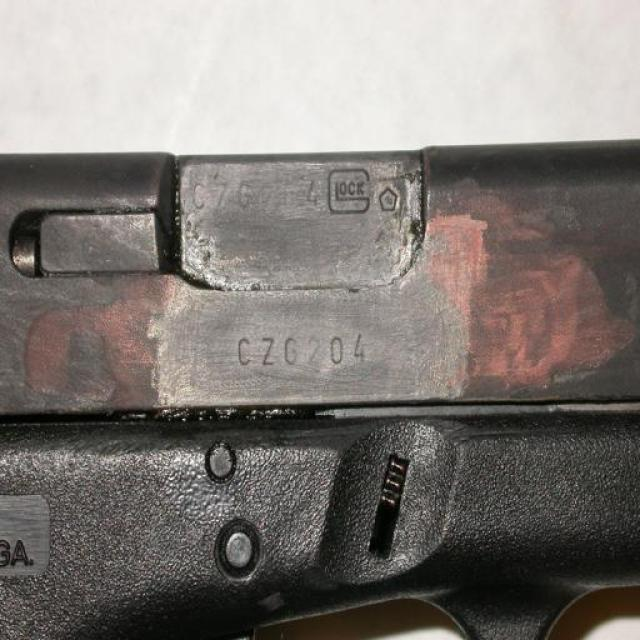pistol: (1, 135, 637, 640)
